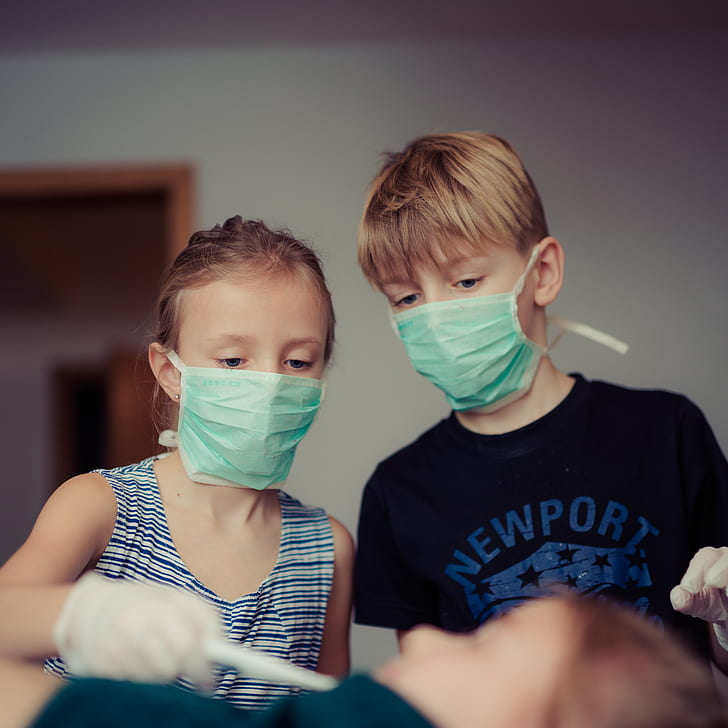surgical: (165, 353, 329, 495), (377, 292, 549, 417)
